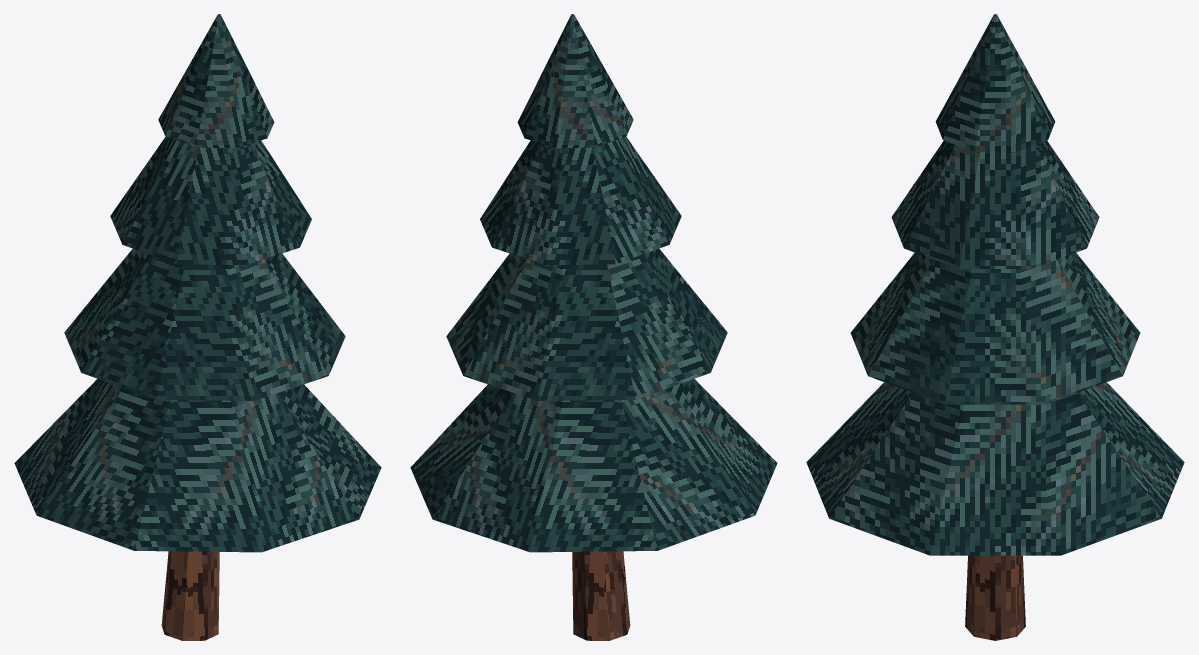
Rendered from arvore.glb.
3 views of the same model, side by side, from view 1: azimuth 30°, elevation 25°; view 2: azimuth 150°, elevation 25°; view 3: azimuth 270°, elevation 25° (orthographic). The views are drawn at different scales.
Visible parts, largest first — view 1: pedreira_arvore; view 2: pedreira_arvore; view 3: pedreira_arvore.
Part boxes in pixels (x1=…): pedreira_arvore: x1=14, y1=14, x2=381, y2=640; pedreira_arvore: x1=410, y1=14, x2=777, y2=640; pedreira_arvore: x1=806, y1=14, x2=1184, y2=640.
Bounding box in the file's own units: 1.16 × 2.17 × 1.18.
Materials: 2 (2 with a texture image).
